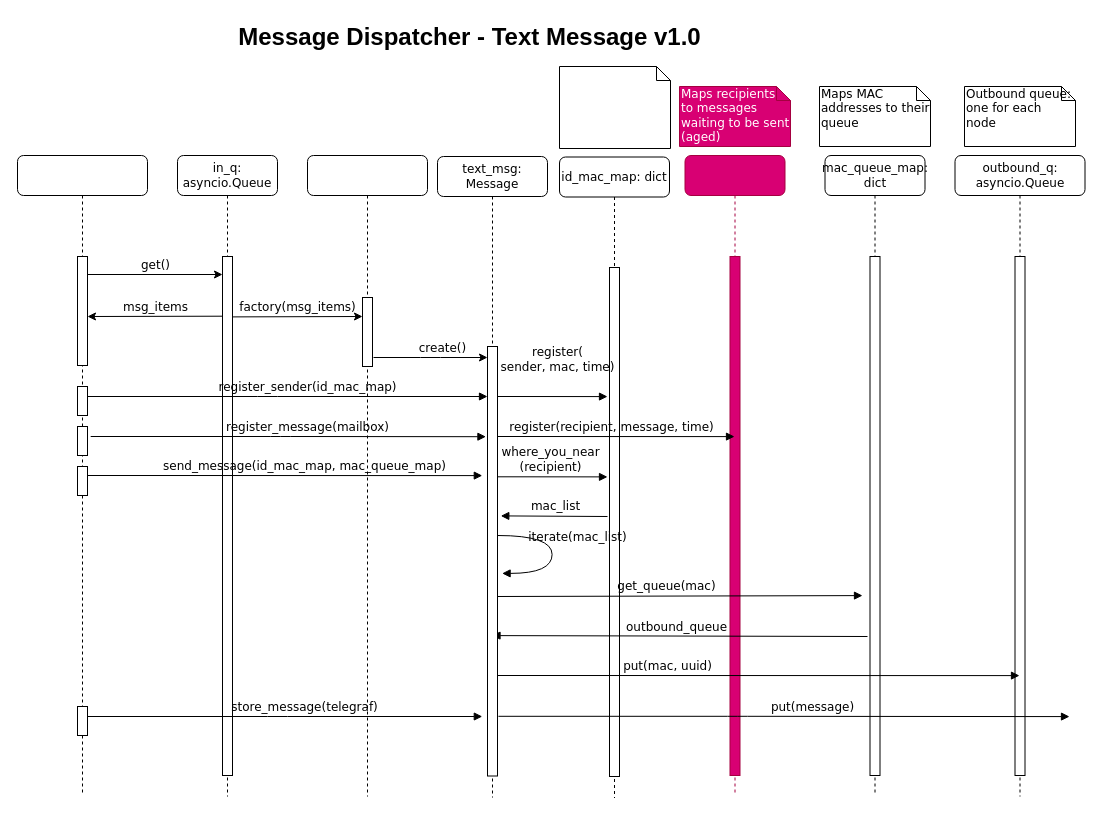
This 1103x815 diagram has some shape labels left out. The box of each missing label's shape, as (x1, y1, x2, y2) in pixels:
factory: Message.factory: (306, 154, 428, 796)
mailbox:dict: (684, 154, 785, 796)
Maps senders to Mac addresses that heard them with signal strength (time aged): (558, 66, 670, 148)
message_dispatcher: asyncio.Task: (16, 154, 148, 796)
